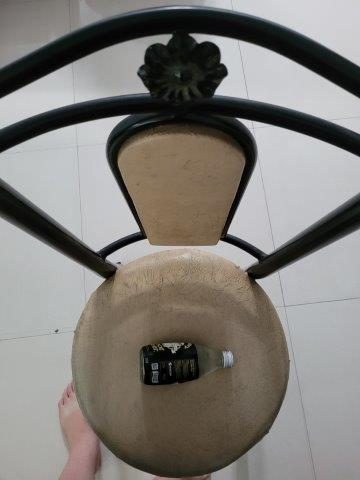botolkaca: (141, 342, 234, 384)
